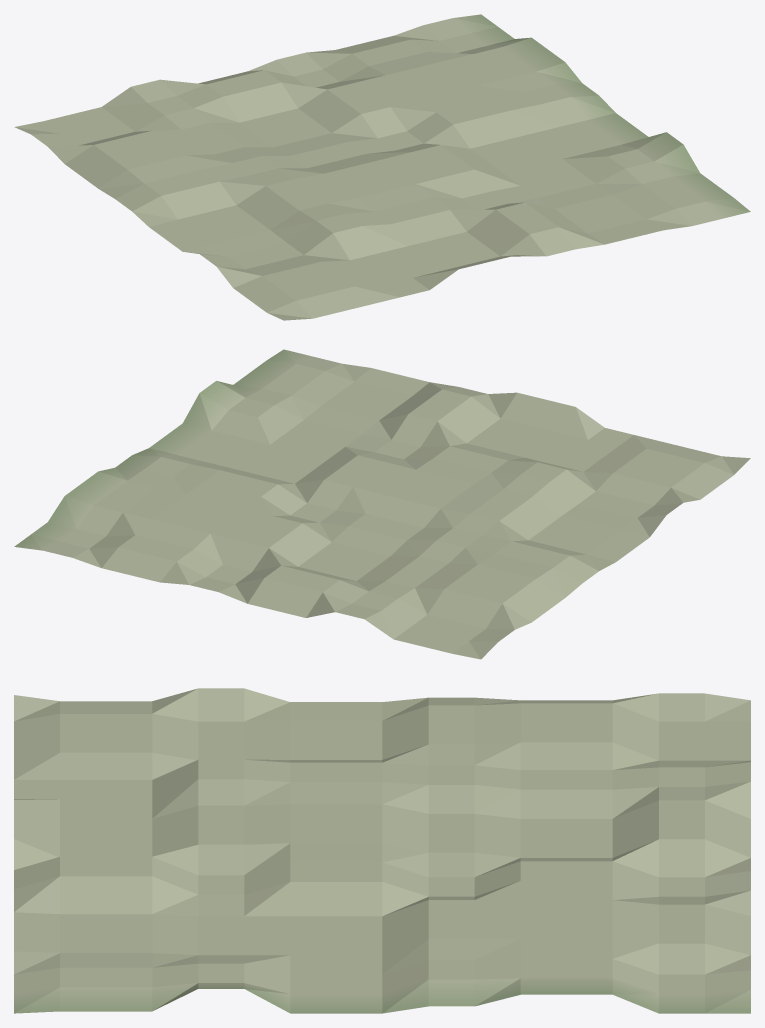
3 renders of one model, top to bottom at view 1: azimuth 30°, elevation 25°; view 2: azimuth 150°, elevation 25°; view 3: azimuth 270°, elevation 25°, orthographic. The views are drawn at different scales.
Size of the model in its own units: 32 by 1.18 by 32.
